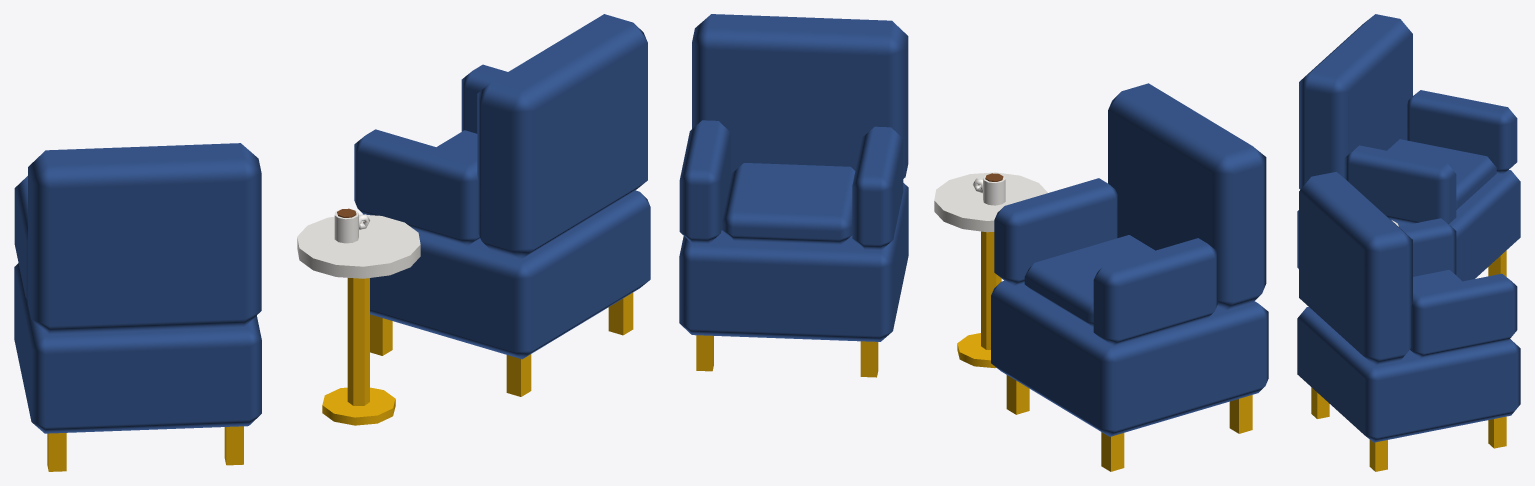
File: station_buffer_ausstattung_3_2.glb
3 views of the same model, side by side, from view 1: azimuth 30°, elevation 25°; view 2: azimuth 150°, elevation 25°; view 3: azimuth 270°, elevation 25° (orthographic). The views are drawn at different scales.
Visible parts, largest first — view 1: station_buffer_ausstattung_3_2; view 2: station_buffer_ausstattung_3_2; view 3: station_buffer_ausstattung_3_2.
Part boxes in pixels (x1=…): station_buffer_ausstattung_3_2: x1=14, y1=14, x2=650, y2=471; station_buffer_ausstattung_3_2: x1=679, y1=14, x2=1268, y2=471; station_buffer_ausstattung_3_2: x1=1297, y1=14, x2=1520, y2=471.
Size of the model in its own units: 1.6 by 0.76 by 0.6476.
